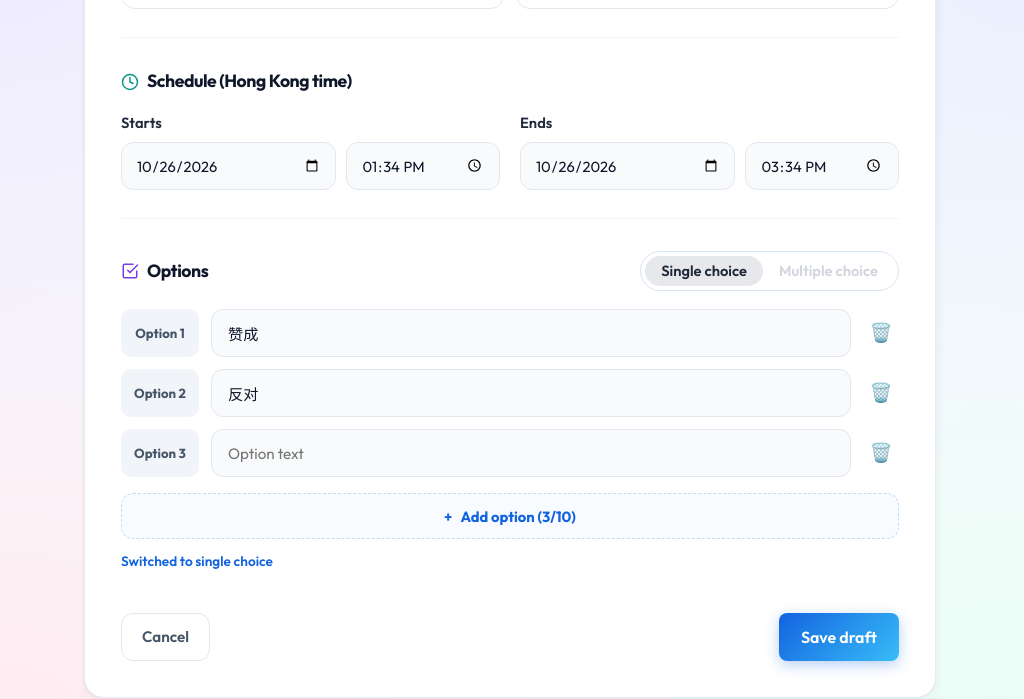
Test case: PollForm › 少于三个有效选项不能多选，降回两项时只提示一次并改回单选
This screenshot has width=1024, height=699.
(page scrolled)
Expected: the radio button labelled "Multiple choice" is disabled, [779,261,878,280]
Expected: the radio button labelled "Single choice" is checked, [645,256,763,286]
Type "弃权" into the field named "Option 3" at [531, 453], box [211,429,851,477]
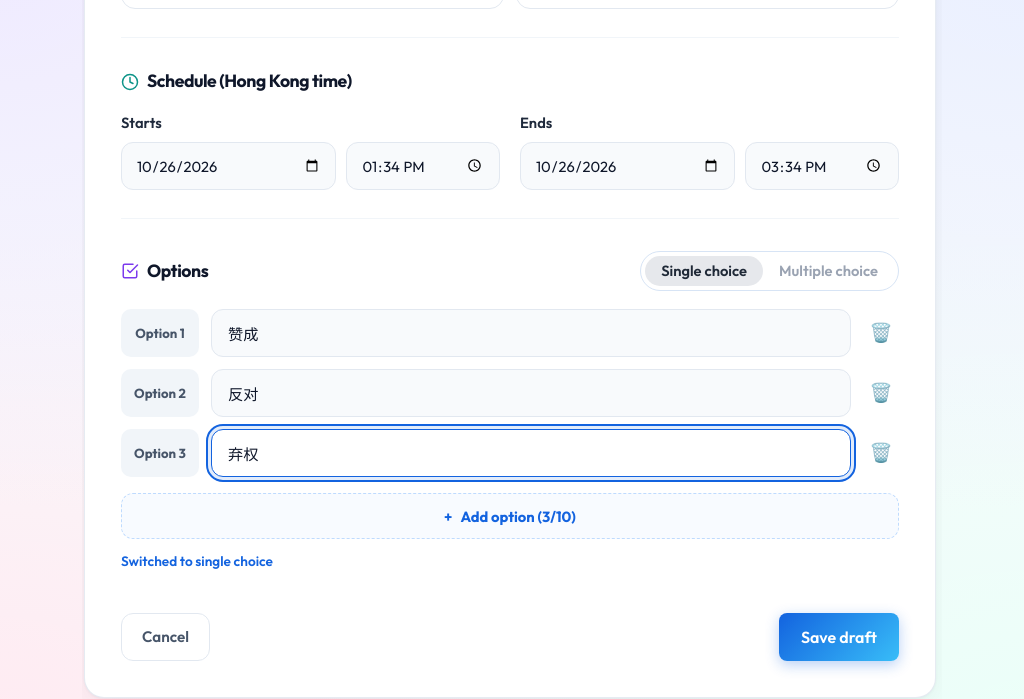
Result: the radio button labelled "Multiple choice" is enabled
Click the radio button labelled "Multiple choice" at [828, 270], box [779,261,878,280]
(page scrolled)
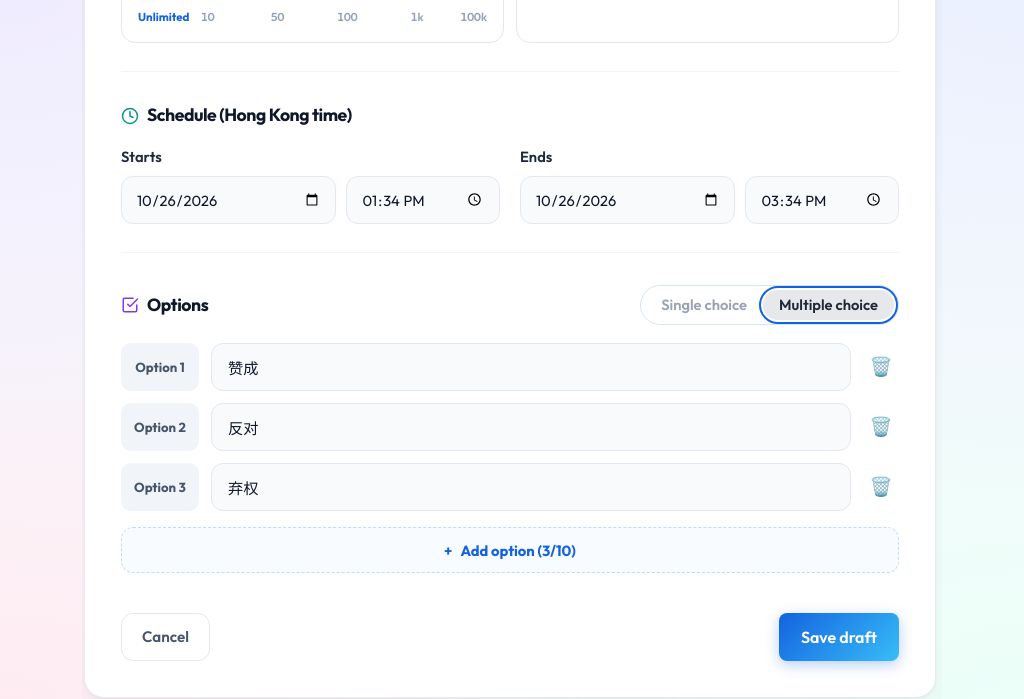
Result: the message "Switched to single choice" is gone
Clear the field named "Option 3" at [531, 487], box [211,463,851,511]
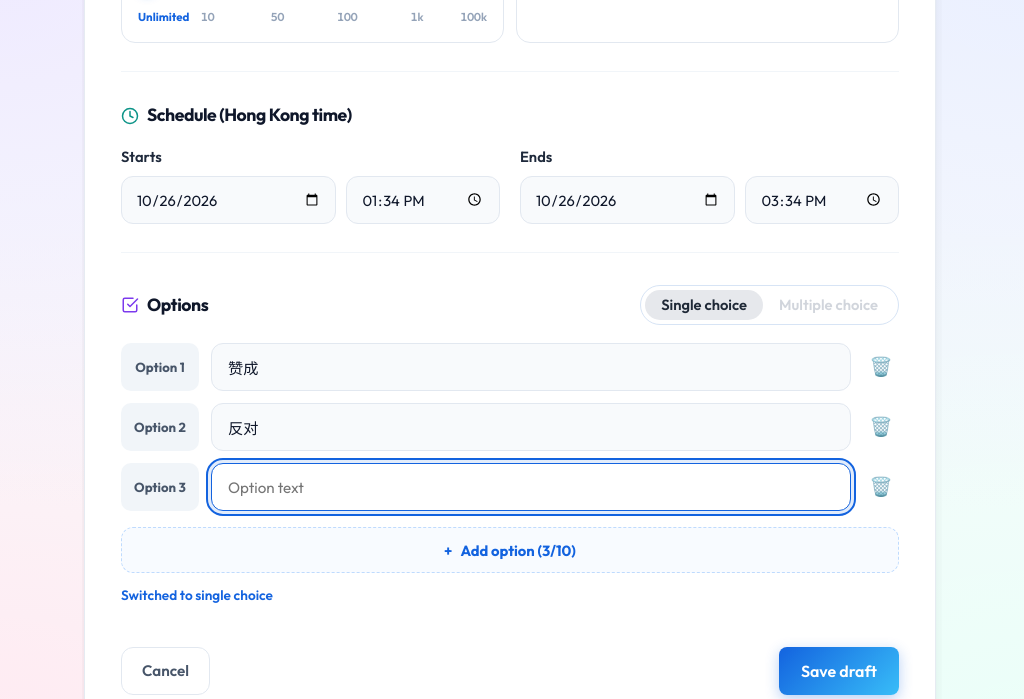
Result: the radio button labelled "Single choice" is checked at [645,290,763,320]
Result: the text "Switched to single choice" is shown once at [121,586,273,604]
Result: the radio button labelled "Multiple choice" is disabled at [779,295,878,314]
Type "弃权" into the field named "Option 3" at [531, 487], box [211,463,851,511]
Click the radio button labelled "Multiple choice" at [828, 304], box [779,295,878,314]
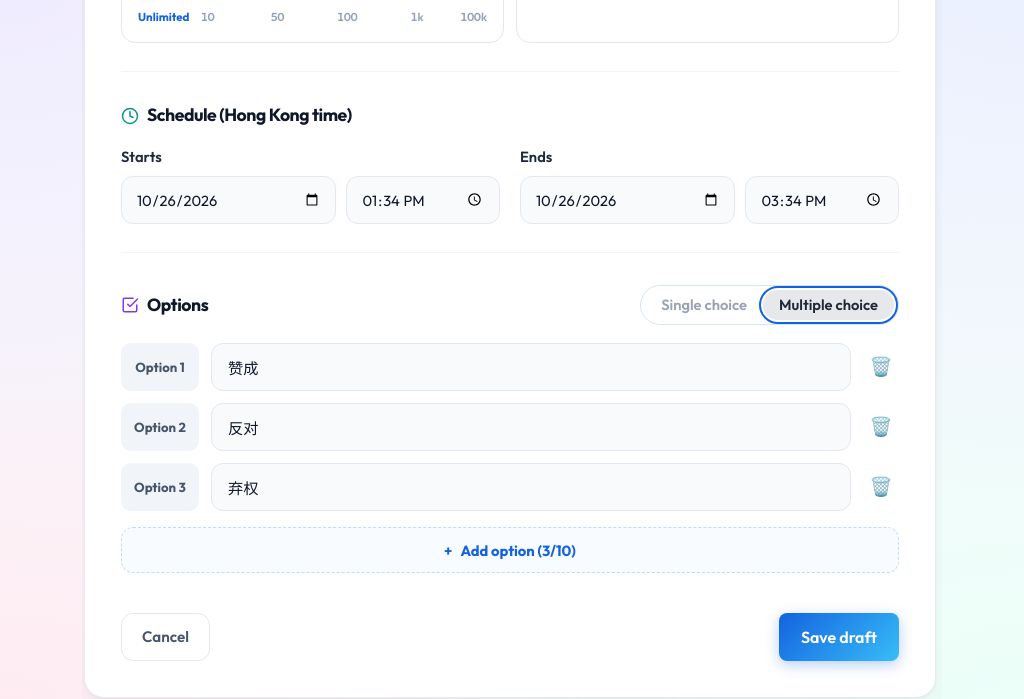
Click the button named "Remove option 3" at [881, 487], box [863,463,899,511]
(page scrolled)
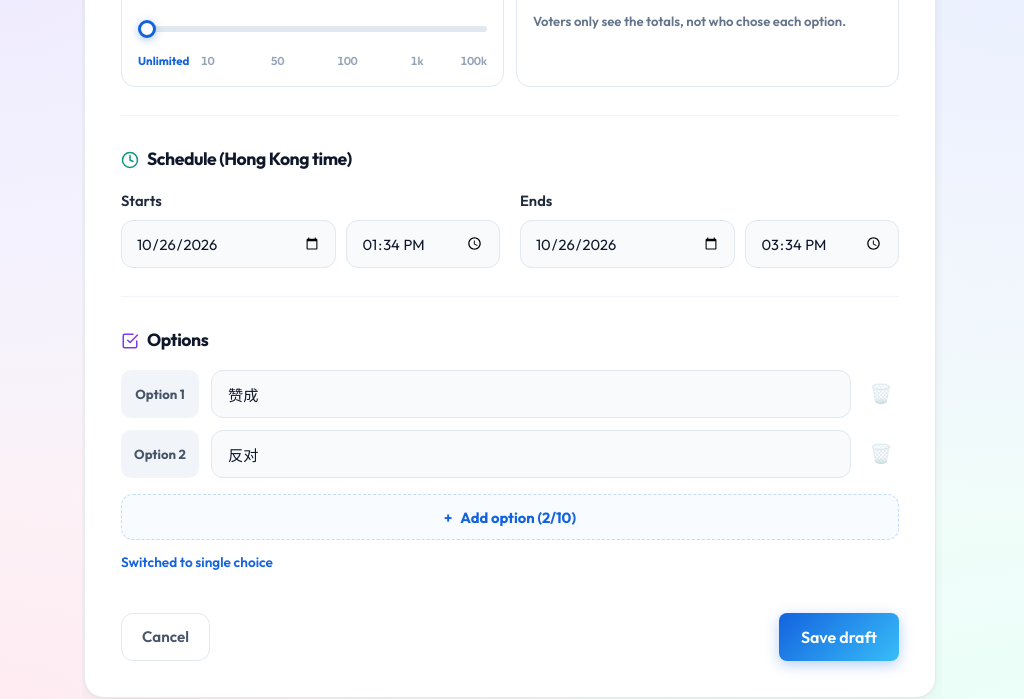
Result: the text "Switched to single choice" is shown once at [121,553,273,571]
Replace the text in the field named "Option 2" with "赞成" at [531, 454], box [211,430,851,478]
Click the button with test id "save-poll" at [839, 637], box [779,613,899,661]
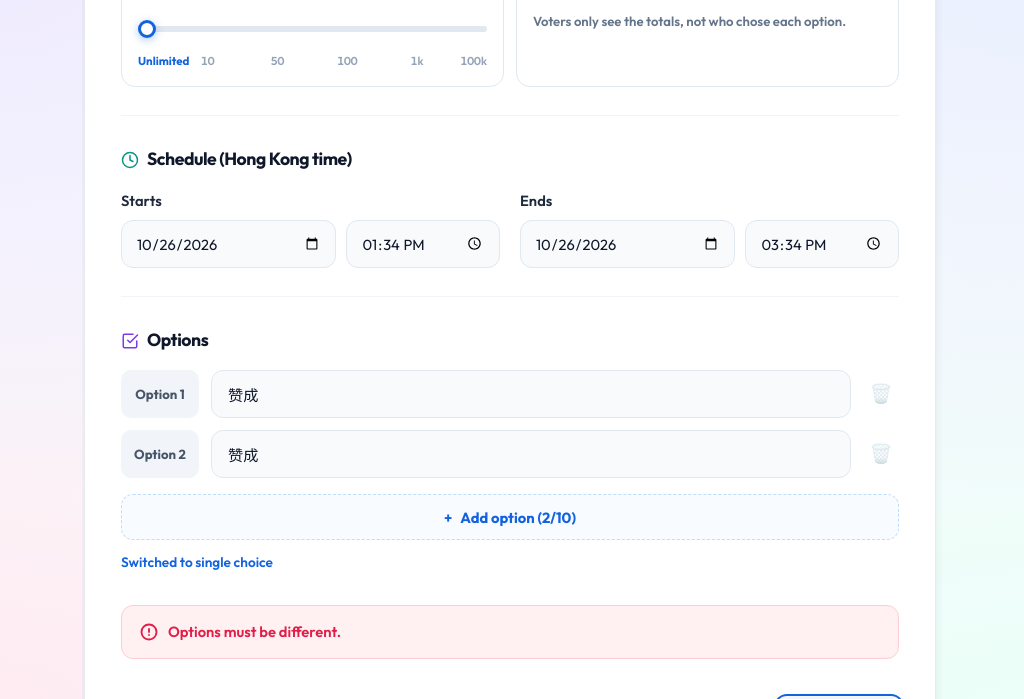
Result: the message "Options must be different." is shown at [121,605,899,658]
